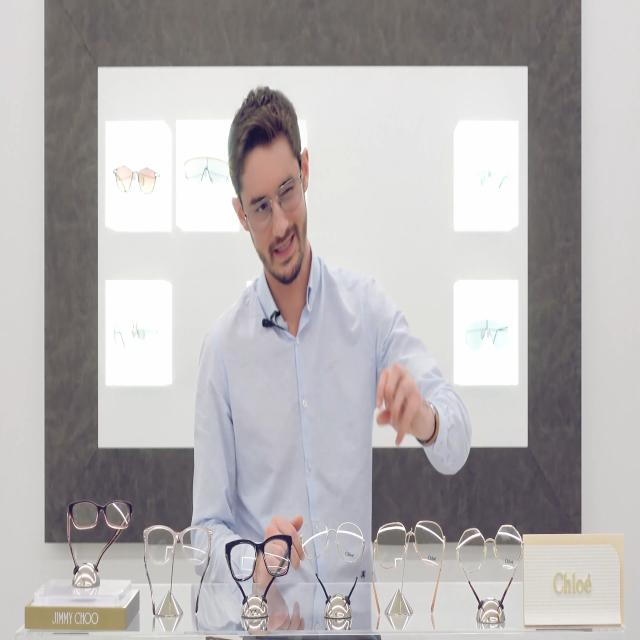dress: (191, 245, 469, 585)
glasses: (243, 175, 304, 231)
